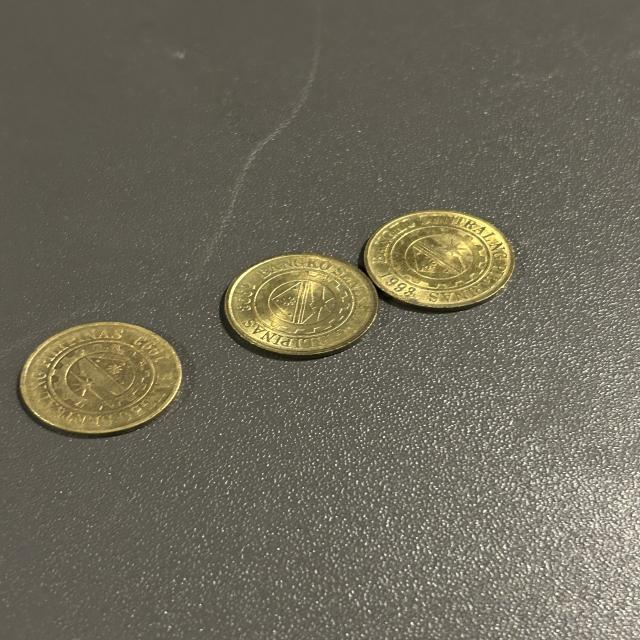25Cent_Old_Back: (26, 340, 172, 416), (368, 225, 495, 292), (243, 272, 360, 344)
